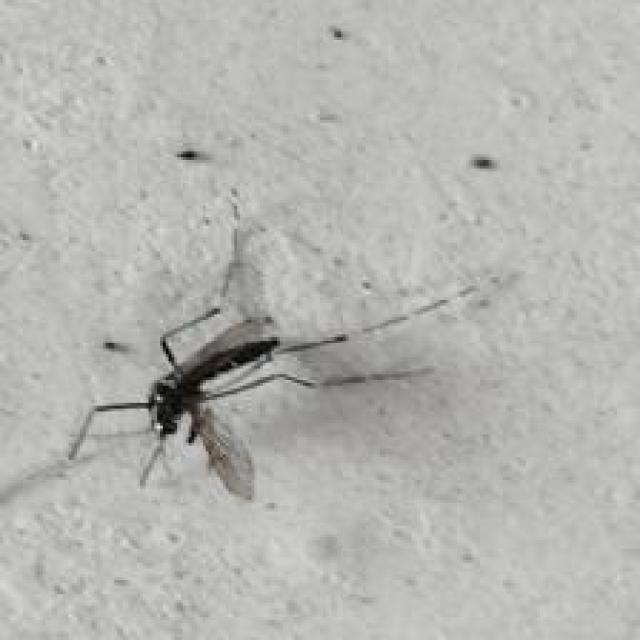Aedes albopictus: (63, 190, 480, 504)
